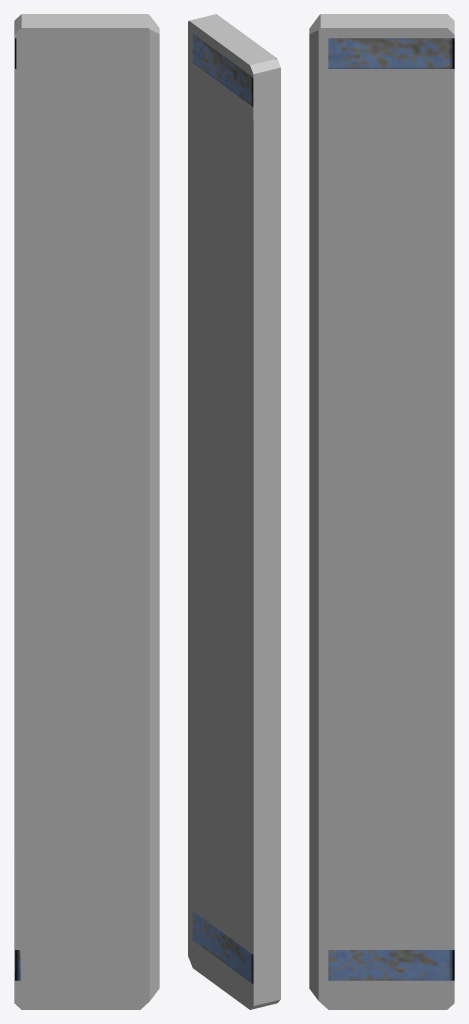
File: SM_scaffold_baner_a.fbx
The picture shows the model from 3 angles, left to right: view 1: azimuth 90°, elevation 25°; view 2: azimuth 210°, elevation 25°; view 3: azimuth 270°, elevation 25°; orthographic projection. The views are drawn at different scales.
Parts seen in each view (by area): view 1: SM_scaffold_baner_a_ConvexHulls; view 2: SM_scaffold_baner_a_ConvexHulls, SM_scaffold_baner_a; view 3: SM_scaffold_baner_a_ConvexHulls, SM_scaffold_baner_a.
Boxes of the visible parts, bbox=[...] form: SM_scaffold_baner_a_ConvexHulls: bbox=[14, 14, 159, 1009]; SM_scaffold_baner_a_ConvexHulls: bbox=[188, 14, 280, 1009]; SM_scaffold_baner_a: bbox=[192, 33, 276, 984]; SM_scaffold_baner_a_ConvexHulls: bbox=[309, 14, 454, 1009]; SM_scaffold_baner_a: bbox=[328, 38, 454, 980].
Size of the model in its own units: 7.46 by 32.76 by 244.
2 materials, 1 textured.
